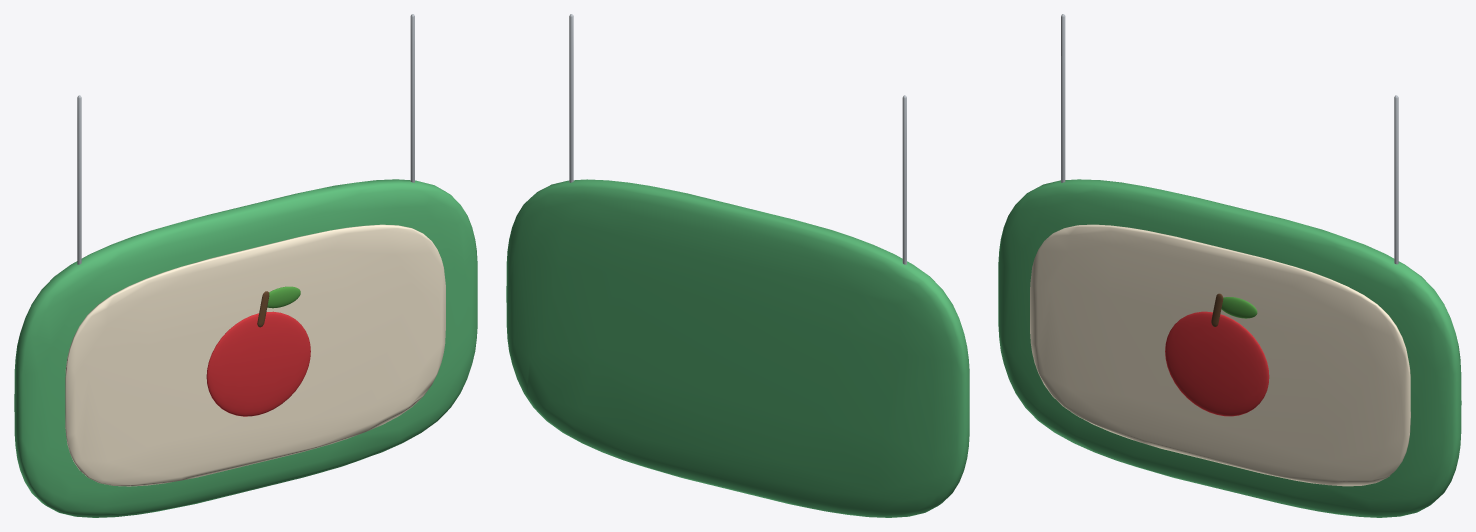
File: letrero_frutas.glb
3 renders of one model, left to right at view 1: azimuth 30°, elevation 25°; view 2: azimuth 150°, elevation 25°; view 3: azimuth 330°, elevation 25°, orthographic.
Visible parts, largest first — view 1: placa letrero, letrero sección, manzana.002, cadena letrero, cadena letrero.001, hoja.002; view 2: letrero sección, cadena letrero, cadena letrero.001; view 3: placa letrero, letrero sección, manzana.002, cadena letrero.001, cadena letrero, hoja.002.
Boxes of the visible parts, x1,y1,x2,y2 form: placa letrero: (65, 224, 445, 486); letrero sección: (14, 179, 477, 517); manzana.002: (206, 311, 310, 416); cadena letrero: (77, 95, 81, 264); cadena letrero.001: (410, 14, 414, 182); hoja.002: (267, 286, 300, 308); letrero sección: (506, 179, 969, 517); cadena letrero: (902, 95, 906, 264); cadena letrero.001: (569, 14, 573, 182); placa letrero: (1030, 224, 1410, 486); letrero sección: (998, 179, 1461, 517); manzana.002: (1165, 311, 1269, 416); cadena letrero.001: (1394, 95, 1398, 264); cadena letrero: (1061, 14, 1065, 182); hoja.002: (1221, 297, 1257, 318).
Size of the model in its own units: 1.16 by 1.05 by 0.1072.
